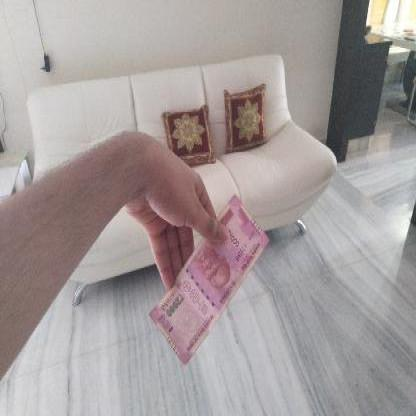New2000Front: (149, 189, 267, 367)
